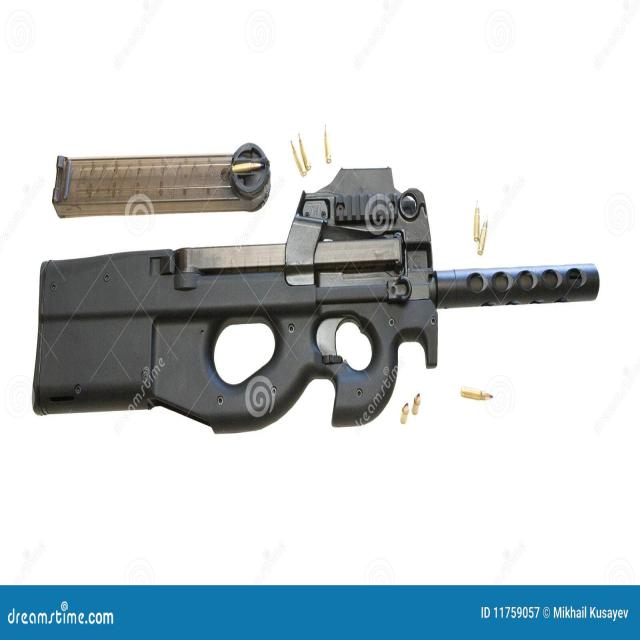Gun: (24, 160, 608, 436)
